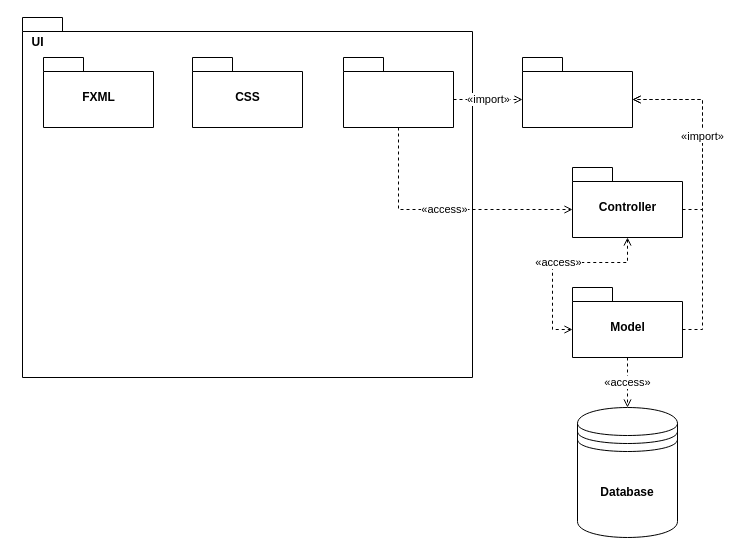
The diagram is 741 pixels wide and 555 high, and some of its shapes have lost their labels. Each missing label, with the centre of its shape:
Interface: [577,92]
UIController: [398,92]
